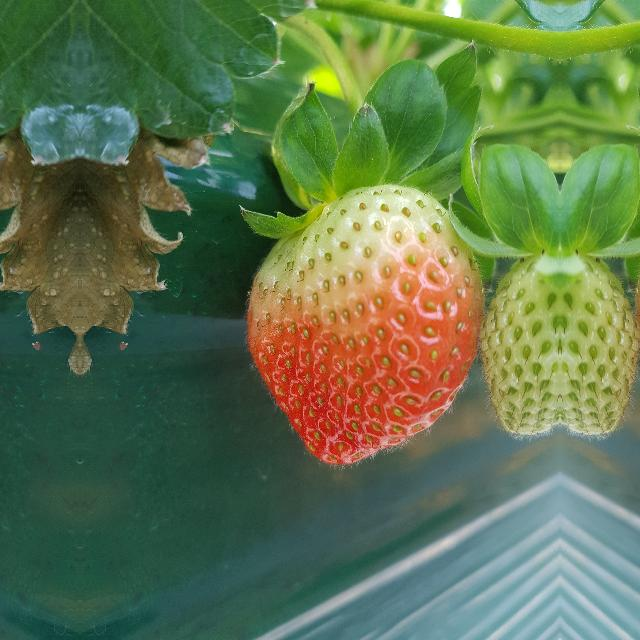Health_75: (242, 183, 482, 472)
